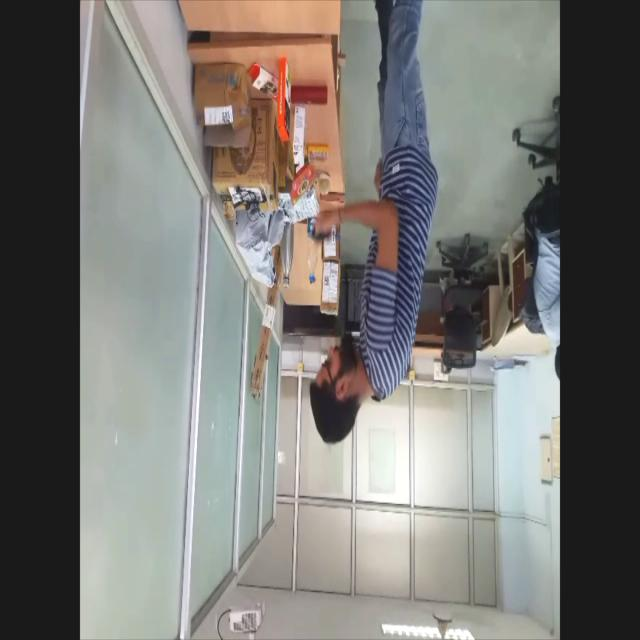normal: (310, 0, 442, 451)
